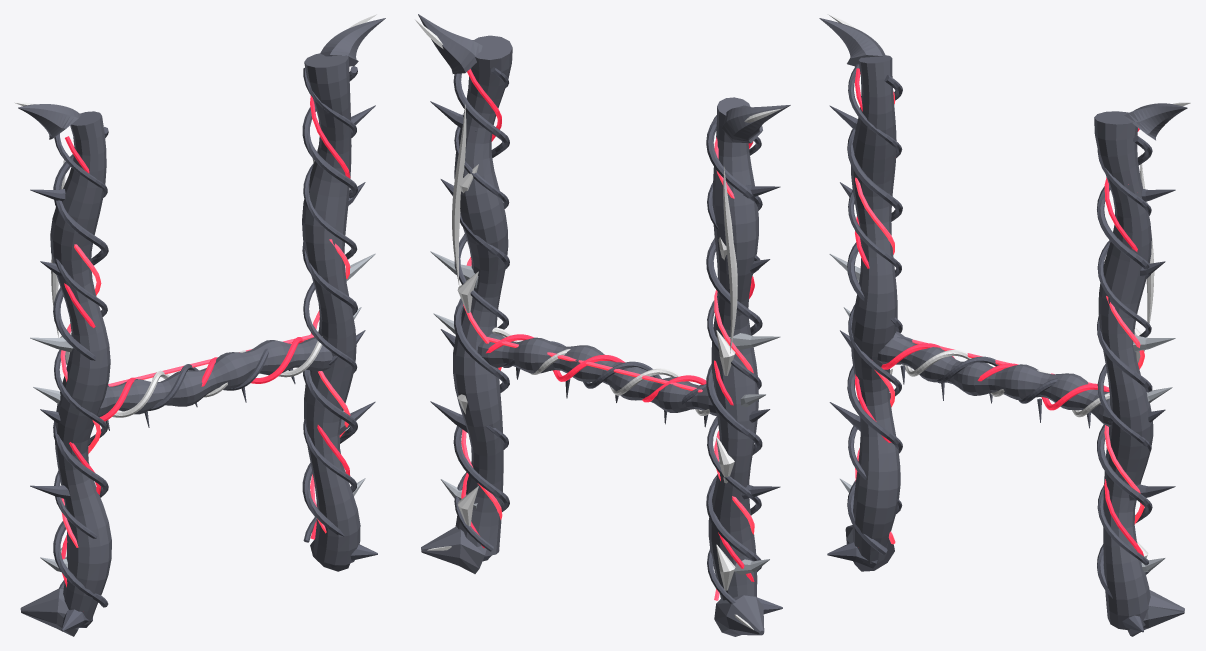
Rendered from Knull_Venom_Roll_Under_Barrier.glb.
3 renders of one model, left to right at view 1: azimuth 30°, elevation 25°; view 2: azimuth 150°, elevation 25°; view 3: azimuth 330°, elevation 25°, orthographic.
Visible parts, largest first — view 1: Symbiote_Pillar, Symbiote_Pillar_1, Functional_Obstacle_Crossbar, Helical_Symbiote_Tendril, Helical_Symbiote_Tendril_2, Helical_Symbiote_Tendril_3, Helical_Symbiote_Tendril_1, Symbiote_Root_Foot, Hooked_Knull_Crown_1, Hooked_Knull_Crown, Braided_Bar_Symbiote_2, Braided_Bar_Symbiote_1 (+5 smaller); view 2: Symbiote_Pillar_1, Symbiote_Pillar, Functional_Obstacle_Crossbar, Helical_Symbiote_Tendril, Helical_Symbiote_Tendril_2, Helical_Symbiote_Tendril_1, Helical_Symbiote_Tendril_3, Symbiote_Root_Foot, Symbiote_Root_Foot_1, Hooked_Knull_Crown_1, Hooked_Knull_Crown, Roll_Gate_High_Venom_Marking (+9 smaller); view 3: Symbiote_Pillar_1, Symbiote_Pillar, Functional_Obstacle_Crossbar, Helical_Symbiote_Tendril_2, Helical_Symbiote_Tendril, Helical_Symbiote_Tendril_3, Helical_Symbiote_Tendril_1, Hooked_Knull_Crown, Hooked_Knull_Crown_1, Braided_Bar_Symbiote_2, Symbiote_Root_Foot_1, Crimson_Knull_Vein_2 (+5 smaller).
Part boxes in pixels (x1,y1,x2,y2): Symbiote_Pillar: [50, 111, 111, 624]; Symbiote_Pillar_1: [302, 53, 360, 565]; Functional_Obstacle_Crossbar: [97, 337, 332, 417]; Helical_Symbiote_Tendril: [53, 127, 108, 607]; Helical_Symbiote_Tendril_2: [302, 66, 357, 536]; Helical_Symbiote_Tendril_3: [303, 68, 357, 542]; Helical_Symbiote_Tendril_1: [54, 133, 107, 588]; Symbiote_Root_Foot: [20, 588, 78, 636]; Hooked_Knull_Crown_1: [320, 18, 385, 66]; Hooked_Knull_Crown: [18, 104, 80, 139]; Braided_Bar_Symbiote_2: [99, 337, 303, 421]; Braided_Bar_Symbiote_1: [112, 336, 322, 417]; Symbiote_Pillar_1: [453, 35, 512, 556]; Symbiote_Pillar: [708, 97, 758, 600]; Functional_Obstacle_Crossbar: [477, 333, 718, 416]; Helical_Symbiote_Tendril: [706, 115, 762, 571]; Helical_Symbiote_Tendril_2: [453, 73, 509, 511]; Helical_Symbiote_Tendril_1: [707, 136, 761, 603]; Helical_Symbiote_Tendril_3: [454, 67, 509, 551]; Symbiote_Root_Foot: [714, 595, 764, 636]; Symbiote_Root_Foot_1: [421, 526, 486, 573]; Hooked_Knull_Crown_1: [418, 14, 482, 73]; Hooked_Knull_Crown: [722, 105, 790, 143]; Roll_Gate_High_Venom_Marking: [723, 166, 737, 353]; Symbiote_Pillar_1: [1094, 111, 1153, 630]; Symbiote_Pillar: [851, 55, 900, 563]; Functional_Obstacle_Crossbar: [877, 331, 1111, 426]; Helical_Symbiote_Tendril_2: [1097, 136, 1152, 598]; Helical_Symbiote_Tendril: [847, 75, 902, 554]; Helical_Symbiote_Tendril_3: [1097, 150, 1151, 574]; Helical_Symbiote_Tendril_1: [848, 63, 902, 513]; Hooked_Knull_Crown: [819, 18, 885, 66]; Hooked_Knull_Crown_1: [1124, 103, 1187, 140]; Braided_Bar_Symbiote_2: [881, 343, 1109, 410]; Symbiote_Root_Foot_1: [1127, 590, 1184, 636]; Crimson_Knull_Vein_2: [1104, 184, 1144, 524].
Bounding box in the file's own units: 4.66 × 6.53 × 0.7128.
